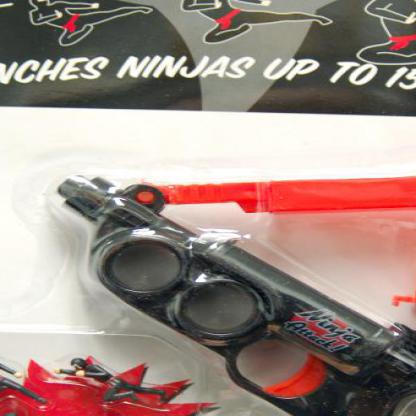gun: (35, 168, 415, 416)
